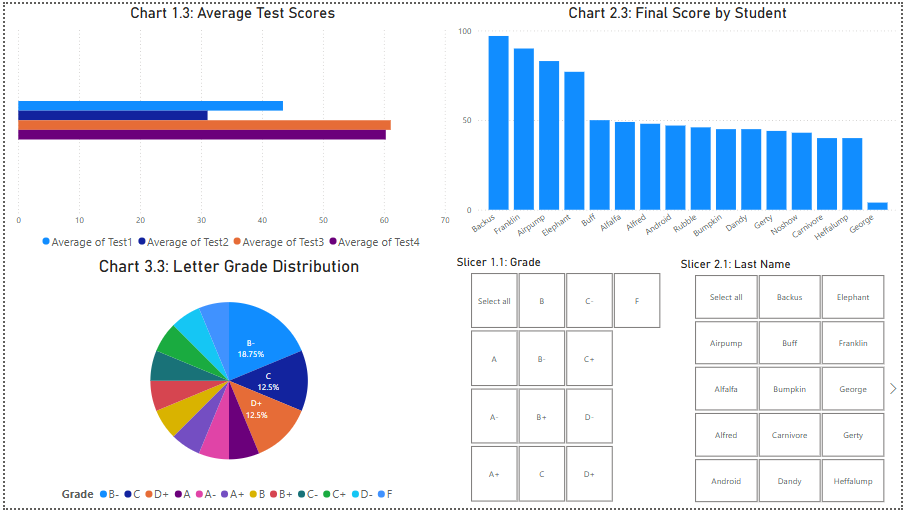

What the dashboard file says about the page in this screenshot:
{"tool":"powerbi","page":{"name":"Slicers","canvas":[1280,720],"ordinal":4},"visuals":[{"type":"clusteredBarChart","title":"Chart 1.3: Average Test Scores","fields":{"Y":["Avg(grades.Test1)","Avg(grades.Test2)","Avg(grades.Test3)","Avg(grades.Test4)"]},"box":[10.6,0,630.3,359.2],"z":0},{"type":"clusteredColumnChart","title":"Chart 2.3: Final Score by Student","fields":{"Y":["Sum(grades.Final)"],"Category":["grades.Last name"]},"box":[640.9,0,639.1,360.9],"z":1000},{"type":"pieChart","title":"Chart 3.3: Letter Grade Distribution","fields":{"Category":["grades.Grade"],"Y":["CountNonNull(grades.Grade)"]},"box":[0,361.4,640,358.6],"z":2000},{"type":"slicer","title":"Slicer 1.1: Grade","fields":{"Values":["grades.Grade"]},"box":[640,358.6,320,358.6],"z":3000},{"type":"slicer","title":"Slicer 2.1: Last Name","fields":{"Values":["grades.Last name"]},"box":[960,361.4,320,357.1],"z":3501}]}

Visuals, with their boxes in screenshot pixels (x1, y1, x2, y2), scaled from the page's 1280x720 canvas onto the 906x510 screenshot:
"Chart 1.3: Average Test Scores" clusteredBarChart: x1=8 y1=0 x2=454 y2=254
"Chart 2.3: Final Score by Student" clusteredColumnChart: x1=454 y1=0 x2=905 y2=256
"Chart 3.3: Letter Grade Distribution" pieChart: x1=0 y1=256 x2=453 y2=509
"Slicer 1.1: Grade" slicer: x1=453 y1=254 x2=680 y2=508
"Slicer 2.1: Last Name" slicer: x1=680 y1=256 x2=905 y2=509
